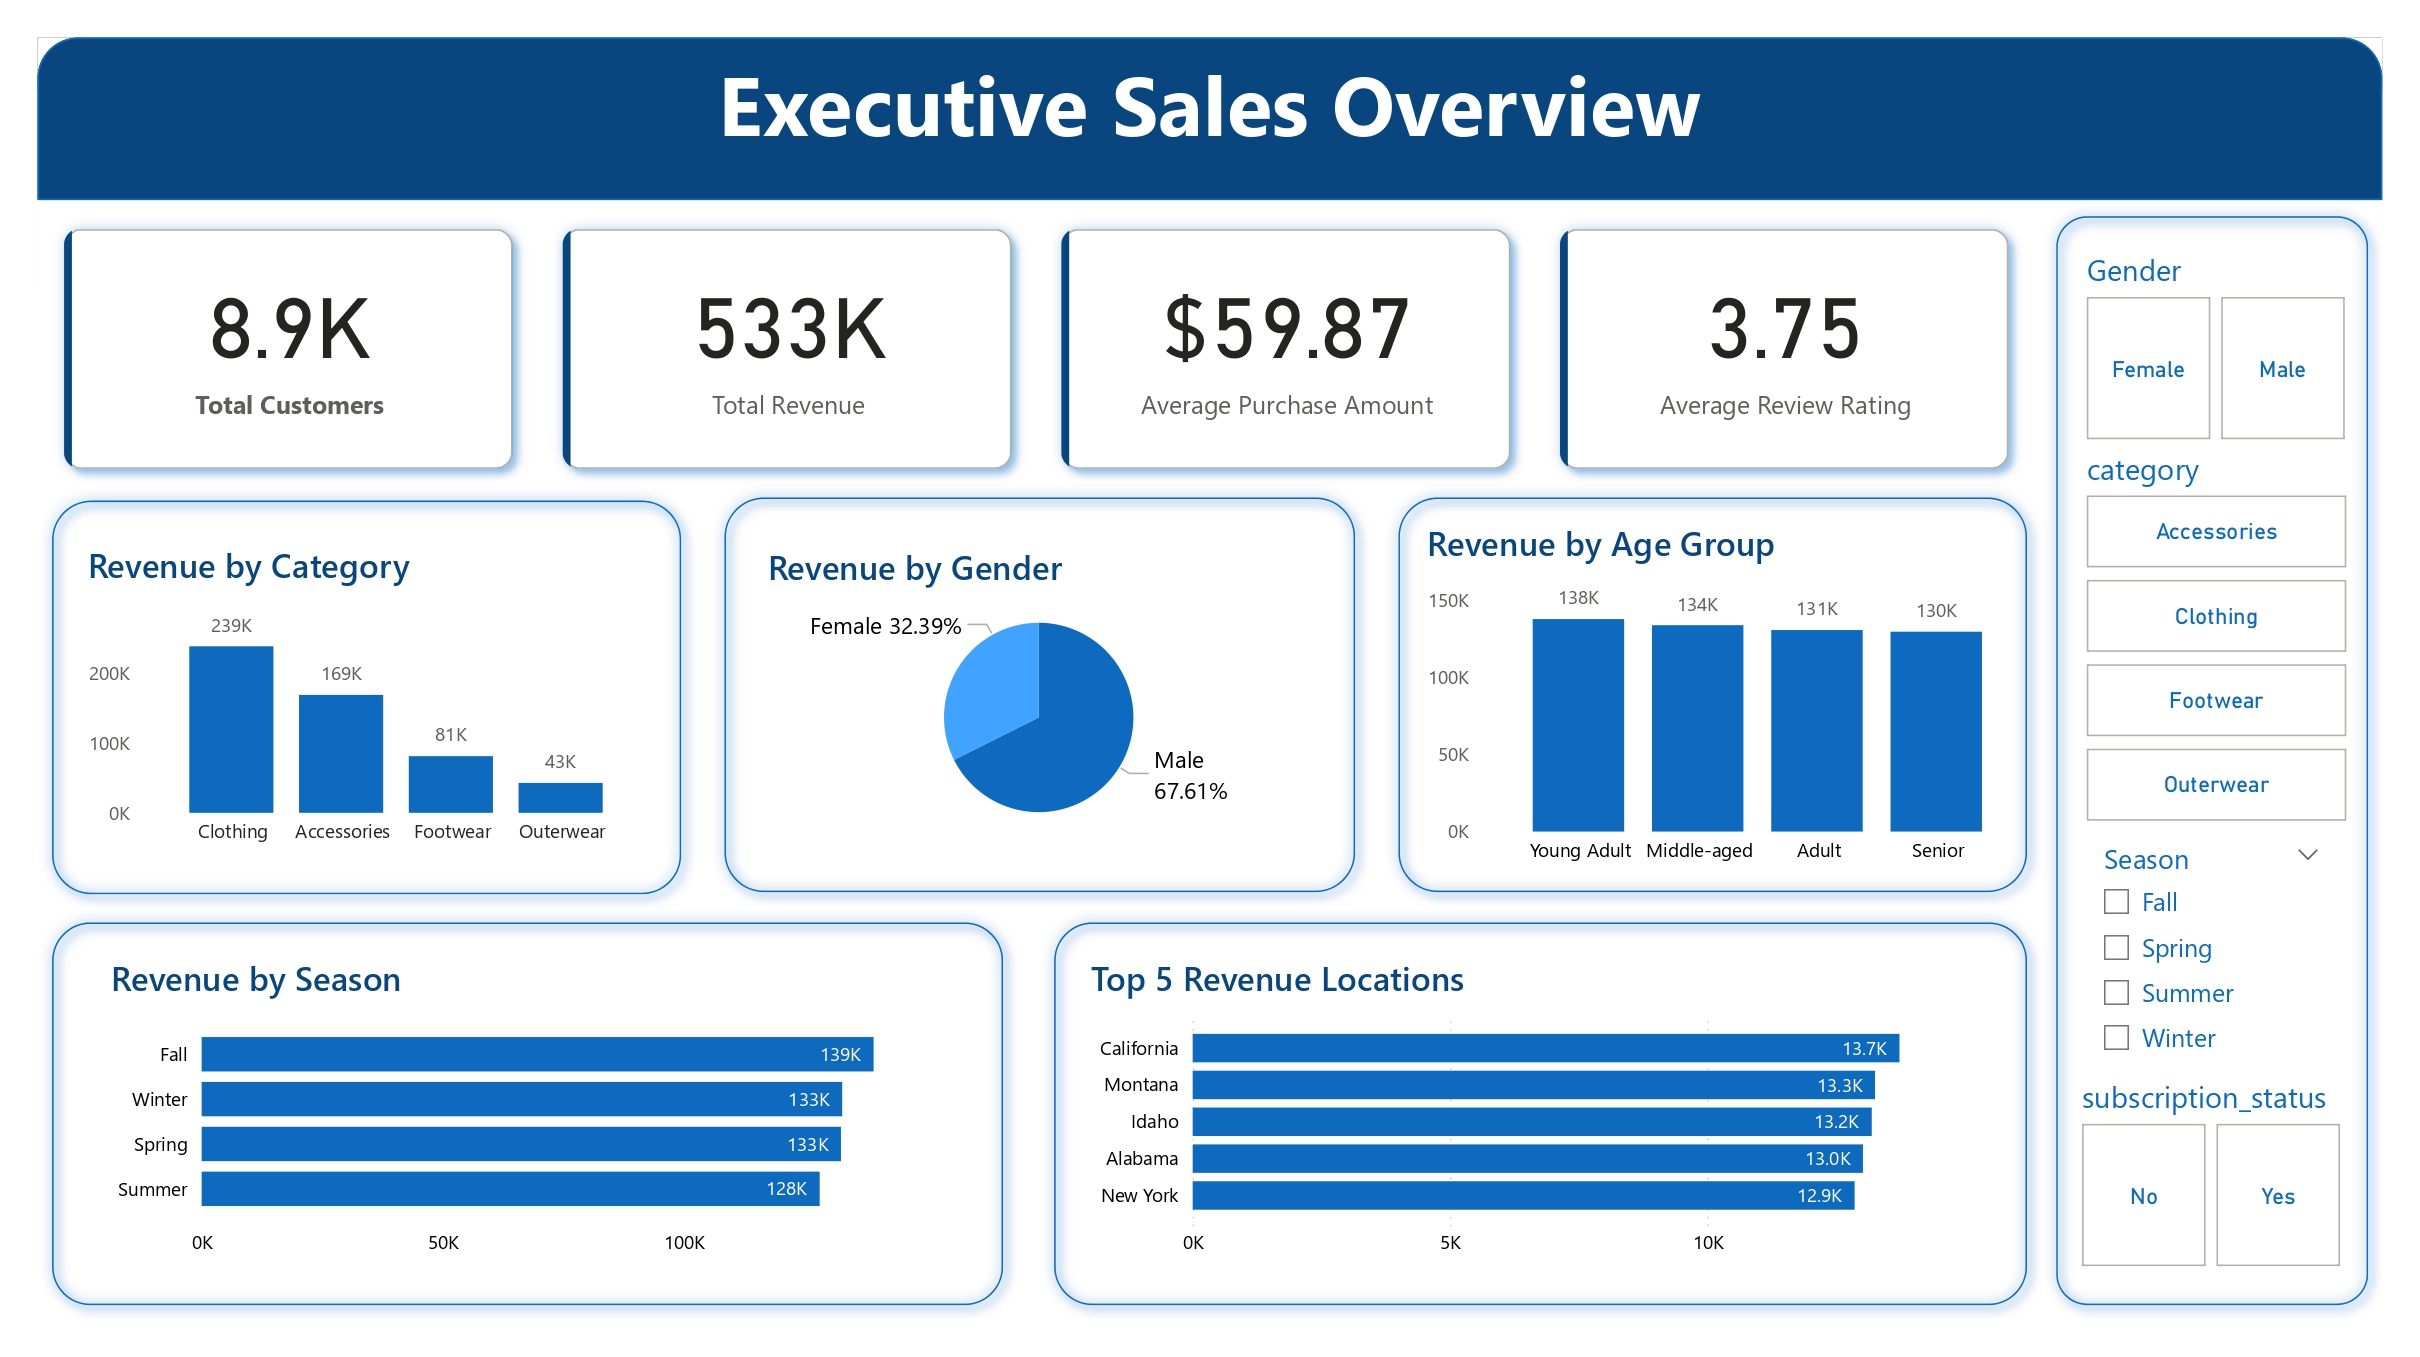

Layout of this report page (visuals, bound fields, positions):
{"tool":"powerbi","page":{"name":"executive_overview","canvas":[1500,820],"ordinal":0},"visuals":[{"type":"shape","box":[0,0,1500,104.1],"z":0},{"type":"textbox","box":[0,0,1500,91.1],"z":1000},{"type":"cardVisual","fields":{"Data":["customer.Total Customers","customer.Total Revenue","customer.Average Purchase Amount","customer.Average Review Rating"]},"box":[0,104.6,1281.9,188.2],"z":2000},{"type":"shape","box":[430.3,285.4,421.3,270.4],"z":3000},{"type":"shape","box":[860.6,285.4,421.3,270.4],"z":4000},{"type":"shape","box":[0,286.9,421,270],"z":5000},{"type":"pieChart","title":"Revenue by Gender","fields":{"Y":["Sum(customer.purchase_amount)"],"Category":["customer.gender"]},"box":[461.7,324.2,357.1,194.2],"z":6000},{"type":"clusteredColumnChart","title":"Revenue by Category","fields":{"Y":["Sum(customer.purchase_amount)"],"Category":["customer.category"]},"box":[26.9,322.7,370.5,203.2],"z":7000},{"type":"columnChart","title":"Revenue by Age Group","fields":{"Category":["customer.age_group"],"Y":["Sum(customer.purchase_amount)"]},"box":[884.5,309.3,397.4,228.6],"z":8000},{"type":"shape","box":[0,557.3,627.5,262.9],"z":9000},{"type":"shape","box":[640.9,557.3,640.9,262.9],"z":10000},{"type":"clusteredBarChart","title":"Revenue by Season","fields":{"Category":["customer.season"],"Y":["Sum(customer.purchase_amount)"]},"box":[41.8,587.2,543.8,201.7],"z":11000},{"type":"clusteredBarChart","title":"Top 5 Revenue Locations","fields":{"Y":["customer.Total Revenue"],"Category":["customer.location"]},"box":[669.3,587.2,563.2,201.7],"z":12000},{"type":"shape","box":[1281.9,104.6,218.1,715.6],"z":13000},{"type":"advancedSlicerVisual","fields":{"Values":["customer.gender"]},"box":[1305.8,136,176.3,127],"z":14000},{"type":"slicer","fields":{"Values":["customer.season"]},"box":[1308.8,508,162.8,156.9],"z":15000},{"type":"advancedSlicerVisual","fields":{"Values":["customer.category"]},"box":[1305.8,262.9,176.3,245],"z":16000},{"type":"advancedSlicerVisual","fields":{"Values":["customer.subscription_status"]},"box":[1302.8,664.8,176.3,127],"z":17000}]}

Visuals, with their boxes on the page's 1500x820 design canvas (x1, y1, x2, y2). These are canvas units, not pixel positions in the 2420x1357 screenshot, which may show the page scaled, cropped or inside an application window:
shape: [left=0, top=0, right=1500, bottom=104]
textbox: [left=0, top=0, right=1500, bottom=91]
cardVisual - customer.Total Customers x customer.Total Revenue: [left=0, top=105, right=1282, bottom=293]
shape: [left=430, top=285, right=852, bottom=556]
shape: [left=861, top=285, right=1282, bottom=556]
shape: [left=0, top=287, right=421, bottom=557]
"Revenue by Gender" pieChart: [left=462, top=324, right=819, bottom=518]
"Revenue by Category" clusteredColumnChart: [left=27, top=323, right=397, bottom=526]
"Revenue by Age Group" columnChart: [left=884, top=309, right=1282, bottom=538]
shape: [left=0, top=557, right=628, bottom=820]
shape: [left=641, top=557, right=1282, bottom=820]
"Revenue by Season" clusteredBarChart: [left=42, top=587, right=586, bottom=789]
"Top 5 Revenue Locations" clusteredBarChart: [left=669, top=587, right=1232, bottom=789]
shape: [left=1282, top=105, right=1500, bottom=820]
advancedSlicerVisual - customer.gender: [left=1306, top=136, right=1482, bottom=263]
slicer - customer.season: [left=1309, top=508, right=1472, bottom=665]
advancedSlicerVisual - customer.category: [left=1306, top=263, right=1482, bottom=508]
advancedSlicerVisual - customer.subscription_status: [left=1303, top=665, right=1479, bottom=792]
